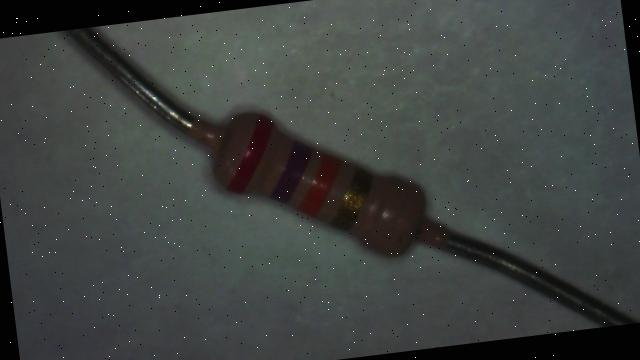gold: (324, 166, 378, 232)
orange: (292, 152, 346, 218)
red: (220, 114, 280, 194)
resistor: (178, 78, 464, 278)
violet: (265, 139, 317, 204)
